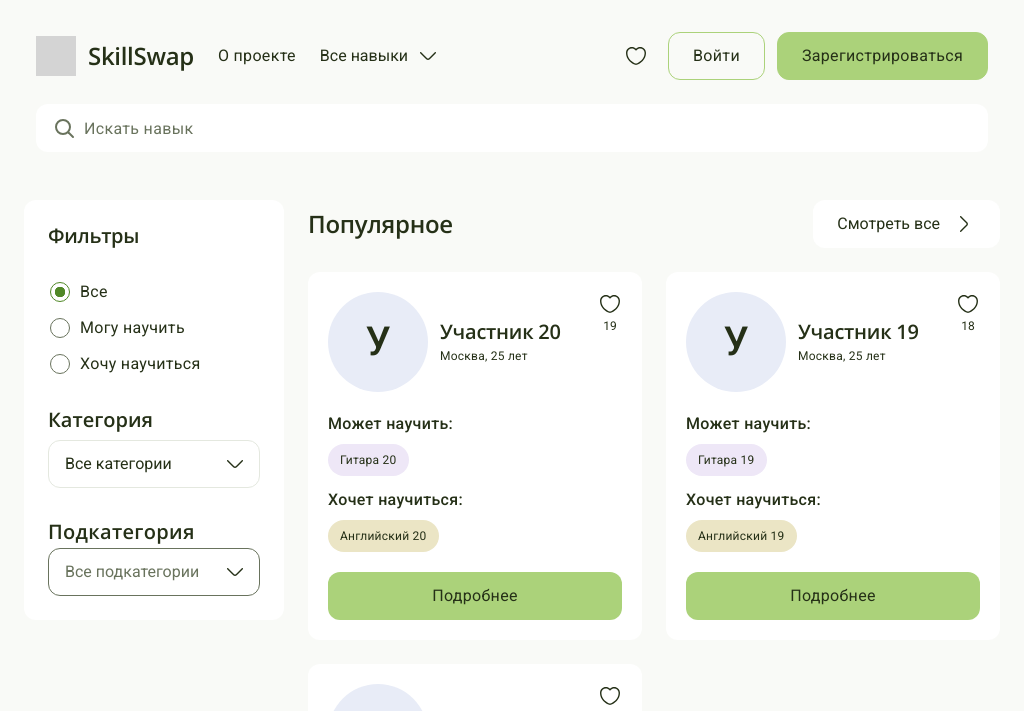
CatalogPage filters › opens results for type alone with an empty search
Expected: the heading "Популярное" is shown, left=308, top=207, right=453, bottom=240
Expected: the search field is empty, left=36, top=104, right=988, bottom=152
Step 1. Click the radio button labelled "Могу научить" → (60, 328), box left=50, top=318, right=70, bottom=338
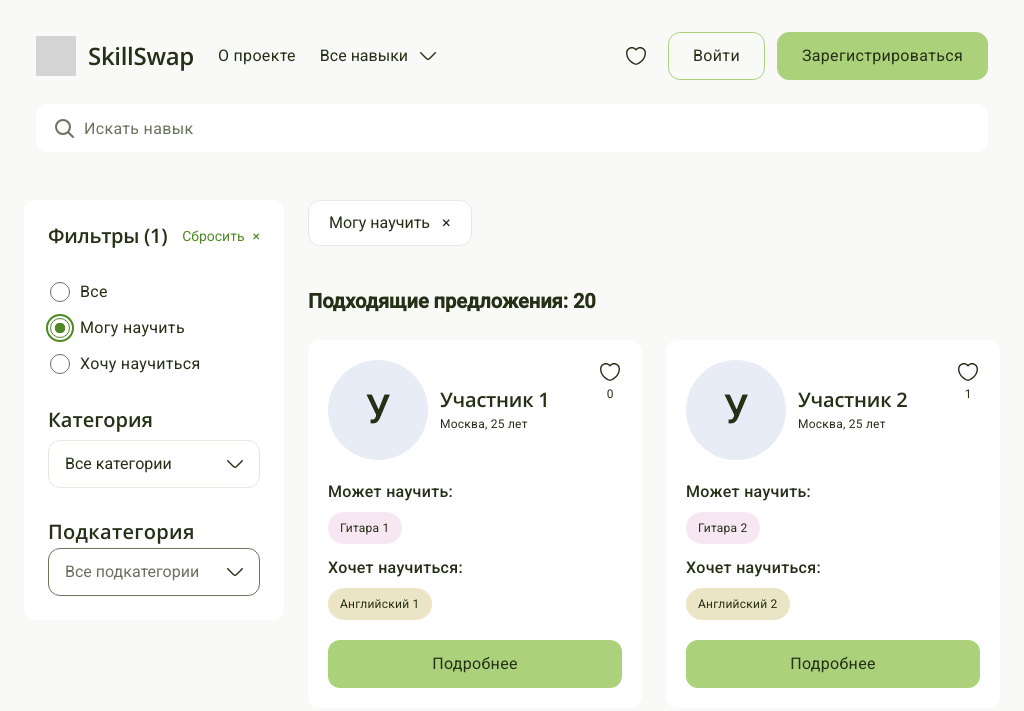
Expected: the heading "Участник 1" is shown, left=440, top=386, right=550, bottom=413
Now the heading "Популярное" is gone
Now the text "Подходящие предложения: 20" is shown, box left=308, top=289, right=596, bottom=313
